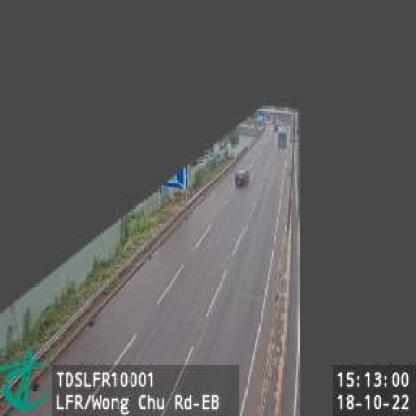Car: (236, 166, 252, 191)
Truck: (277, 129, 288, 149)
